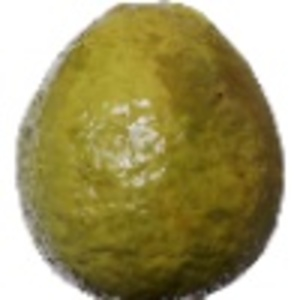goiaba: (16, 2, 287, 297)
